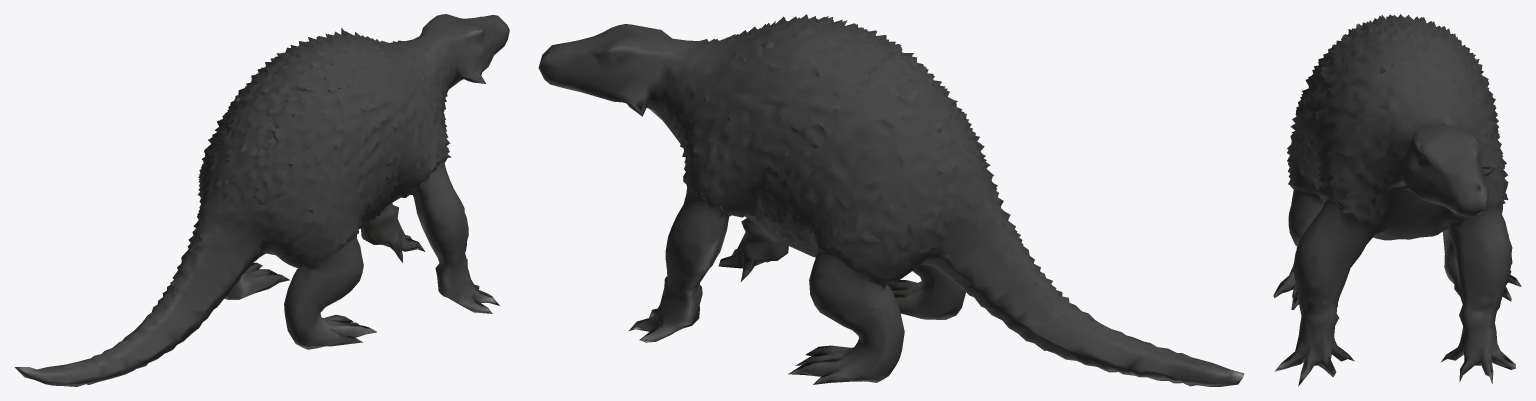
Rendered from armadillo.glb.
3 views of the same model, side by side, from view 1: azimuth 30°, elevation 25°; view 2: azimuth 150°, elevation 25°; view 3: azimuth 270°, elevation 25° (orthographic). The views are drawn at different scales.
Visible parts, largest first — view 1: tripo_node_49d834dc-47b5-49e1-b1a7-da4f8fb7156b; view 2: tripo_node_49d834dc-47b5-49e1-b1a7-da4f8fb7156b; view 3: tripo_node_49d834dc-47b5-49e1-b1a7-da4f8fb7156b.
Part boxes in pixels (bbox=[...]): tripo_node_49d834dc-47b5-49e1-b1a7-da4f8fb7156b: bbox=[14, 14, 509, 386]; tripo_node_49d834dc-47b5-49e1-b1a7-da4f8fb7156b: bbox=[538, 14, 1244, 386]; tripo_node_49d834dc-47b5-49e1-b1a7-da4f8fb7156b: bbox=[1273, 14, 1521, 386].
Bounding box in the file's own units: 2.58 × 1.2 × 0.9109.
Materials: 1 (1 with a texture image).
